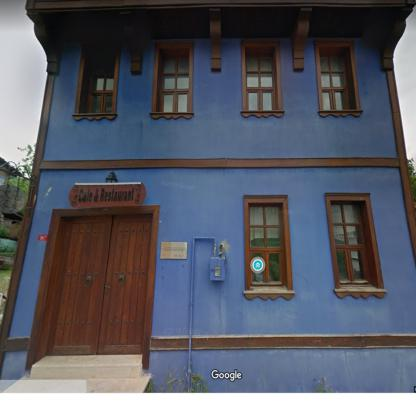door: (46, 216, 152, 354)
window: (326, 195, 383, 289), (244, 198, 291, 289), (74, 46, 120, 115), (316, 41, 360, 110), (152, 43, 192, 113), (241, 41, 281, 111)
